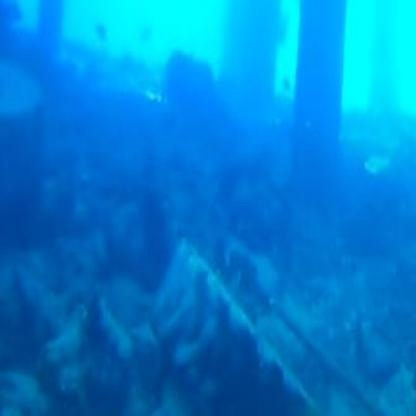tire: (156, 252, 332, 416)
